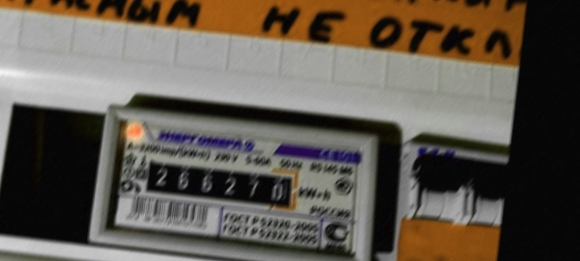0: (270, 180, 283, 201)
2: (153, 164, 170, 187), (223, 174, 237, 195)
6: (176, 169, 190, 190), (200, 172, 214, 192)
7: (246, 177, 260, 197)
screen: (132, 145, 310, 220)
